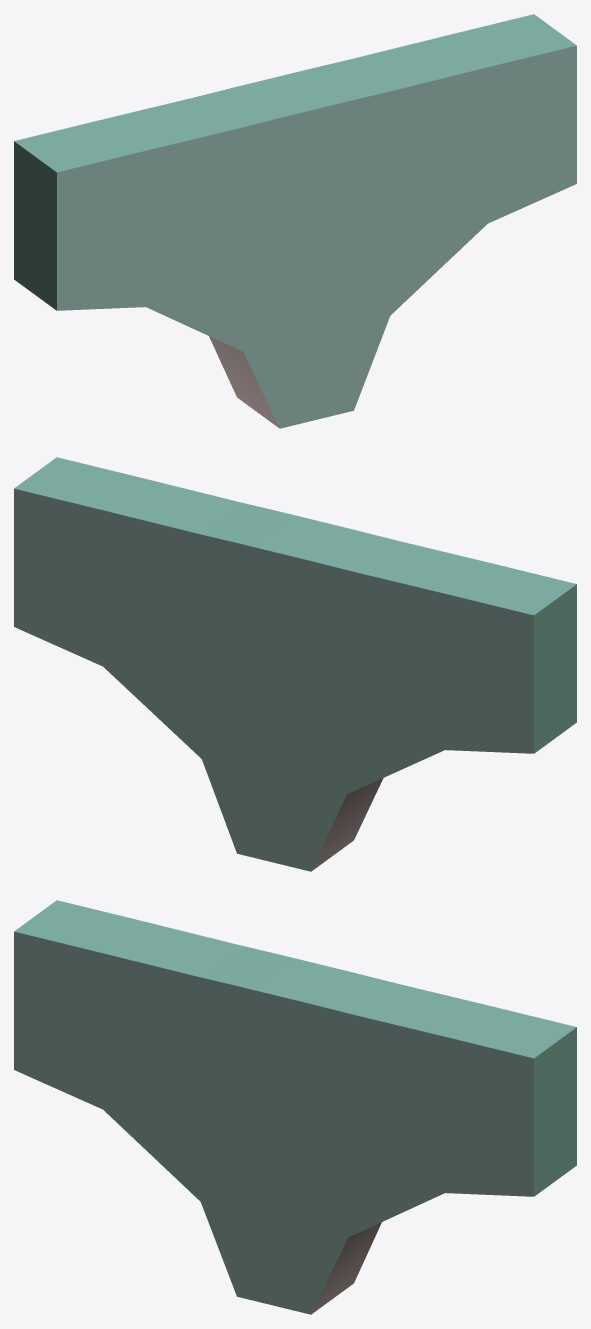
File: SM_Arche2x1.FBX
3 views of the same model, one above another, from view 1: azimuth 30°, elevation 25°; view 2: azimuth 150°, elevation 25°; view 3: azimuth 330°, elevation 25° (orthographic).
Visible parts, largest first — view 1: SM_Arche2x1; view 2: SM_Arche2x1; view 3: SM_Arche2x1.
Boxes of the visible parts, x1,y1,x2,y2 form: SM_Arche2x1: (14,14,576,428); SM_Arche2x1: (14,457,576,871); SM_Arche2x1: (14,900,576,1314).
Bounding box in the file's own units: 175 × 100 × 25.
